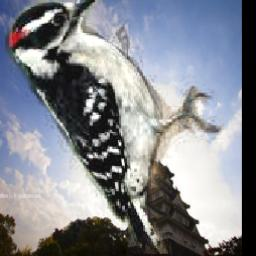Woodpecker: (6, 0, 225, 255)
